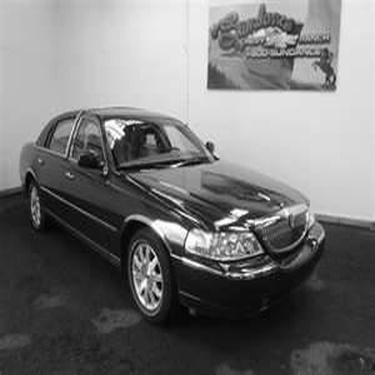car: (17, 108, 331, 328)
